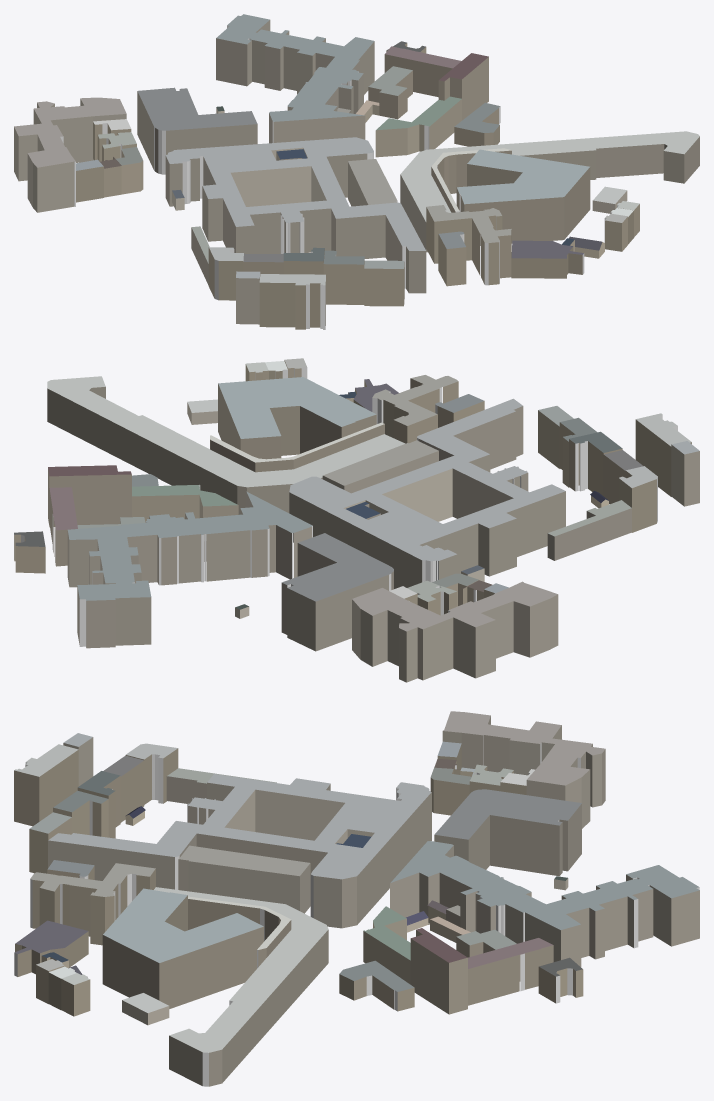
3 renders of one model, top to bottom at view 1: azimuth 30°, elevation 25°; view 2: azimuth 150°, elevation 25°; view 3: azimuth 270°, elevation 25°, orthographic. The views are drawn at different scales.
Parts seen in each view (by area): view 1: tuile; view 2: tuile; view 3: tuile.
Part boxes in pixels (x1=…): tuile: x1=14, y1=14, x2=699, y2=329; tuile: x1=14, y1=358, x2=699, y2=682; tuile: x1=14, y1=711, x2=699, y2=1086.
Bounding box in the file's own units: 351 × 34.58 × 326.
